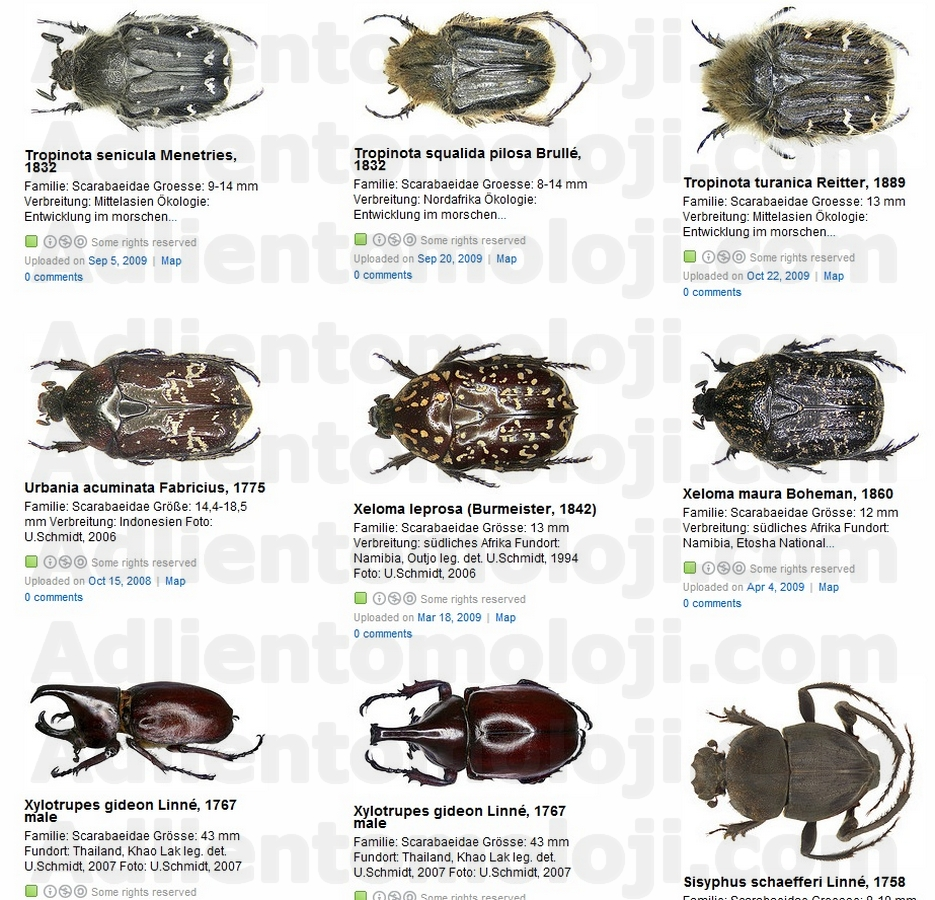Tropinota_senicula: (18, 3, 289, 136)
